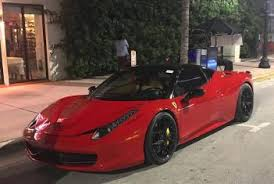Lamborghini: (26, 66, 230, 167)
